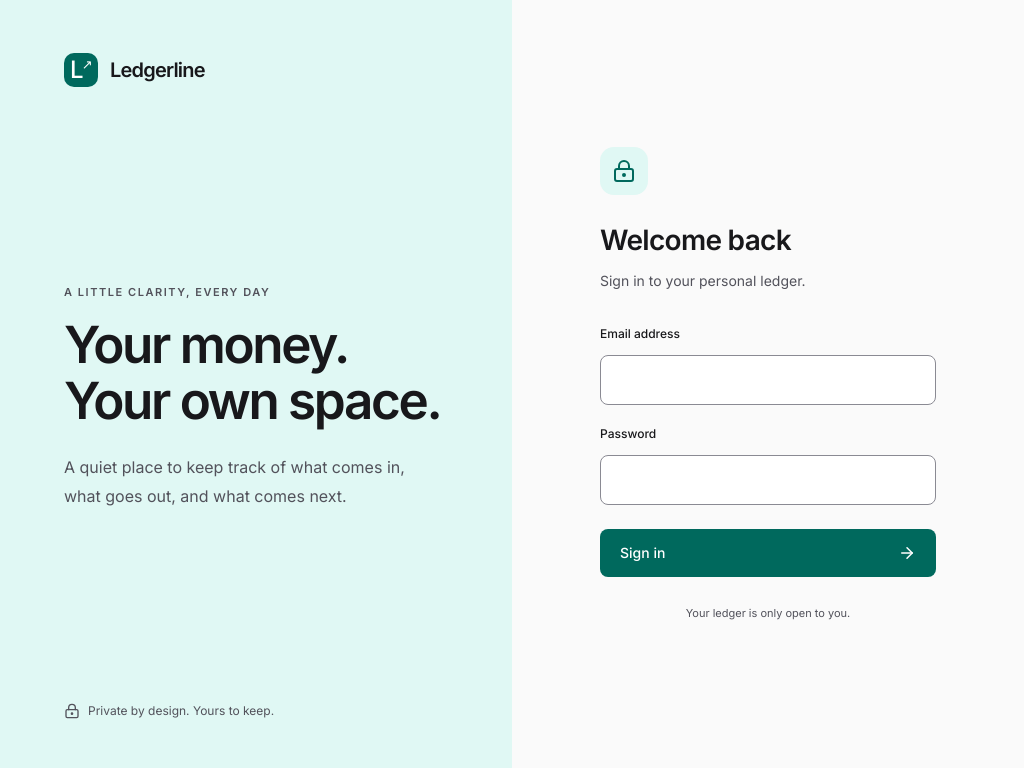
Test: validates credentials before sending a request
This screenshot has width=1024, height=768.
Click the button "Sign in" at {"x": 643, "y": 553}, box [600, 529, 936, 577]
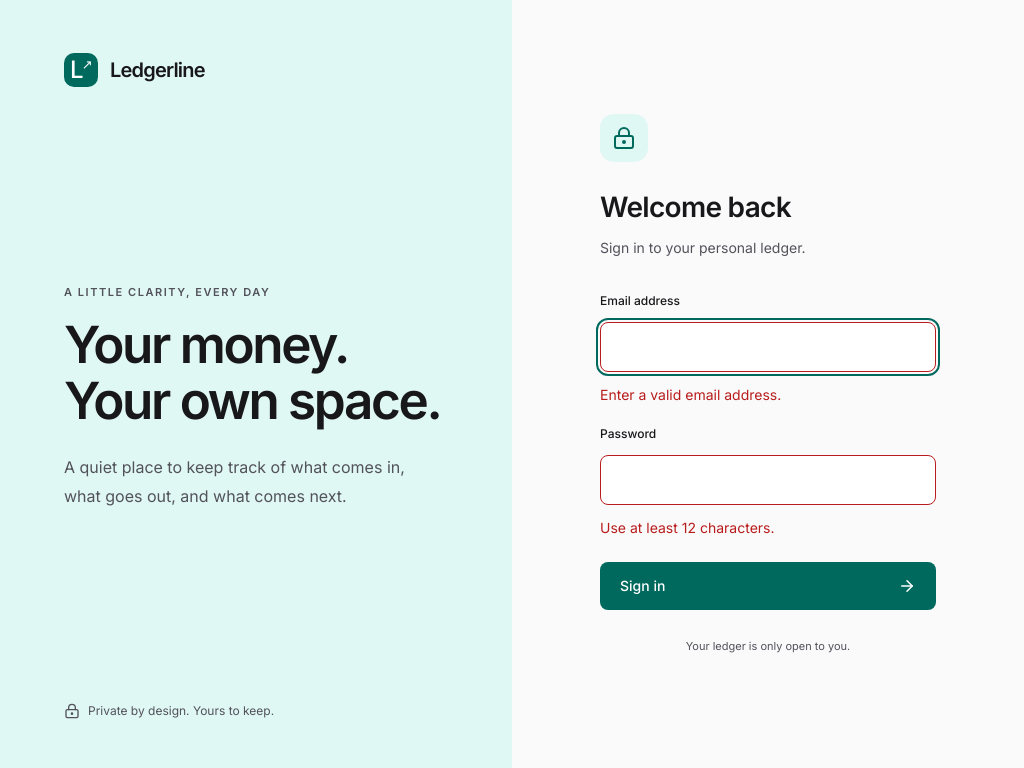
Now the text "Enter a valid email address." is shown, box [600, 386, 781, 403]
Now the text "Use at least 12 characters." is shown, box [600, 519, 774, 536]
